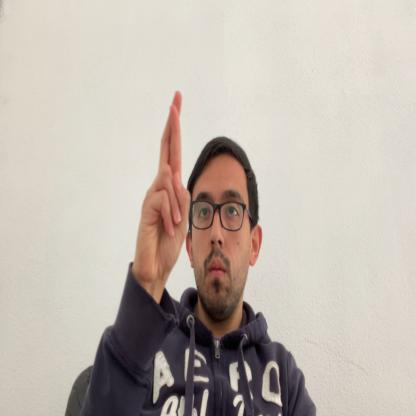R: (137, 91, 190, 296)
